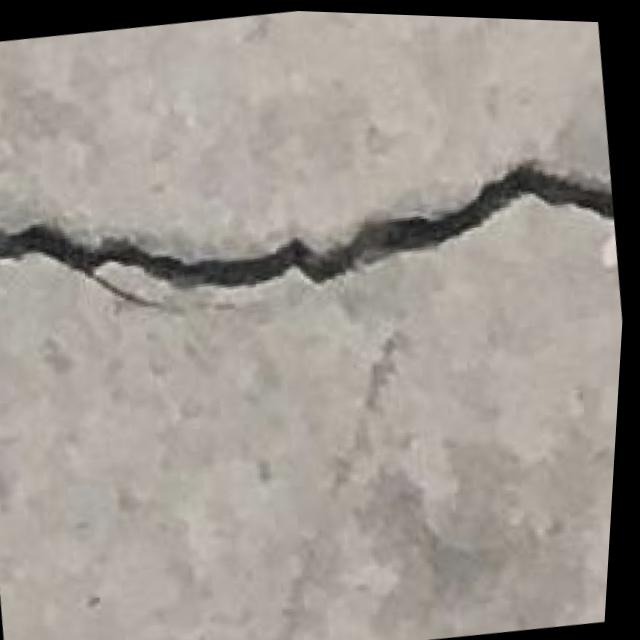Crack: (0, 115, 624, 350)
